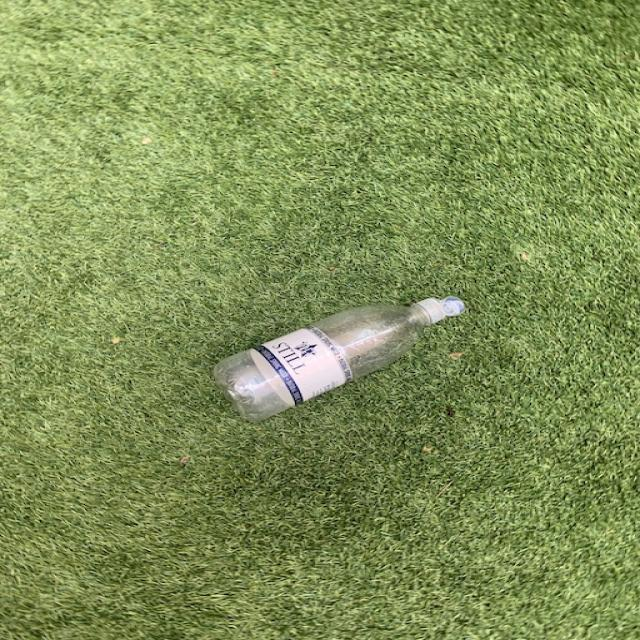litter: (208, 294, 484, 424)
